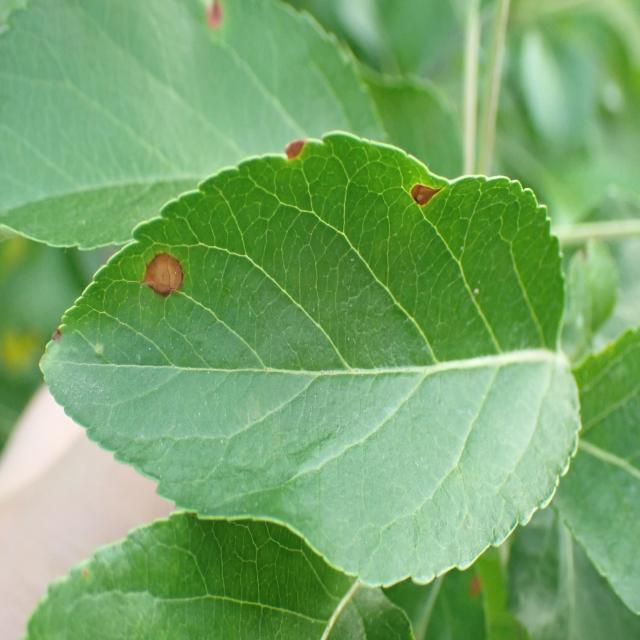frog-eye-leaf-spot: (36, 131, 583, 590)
